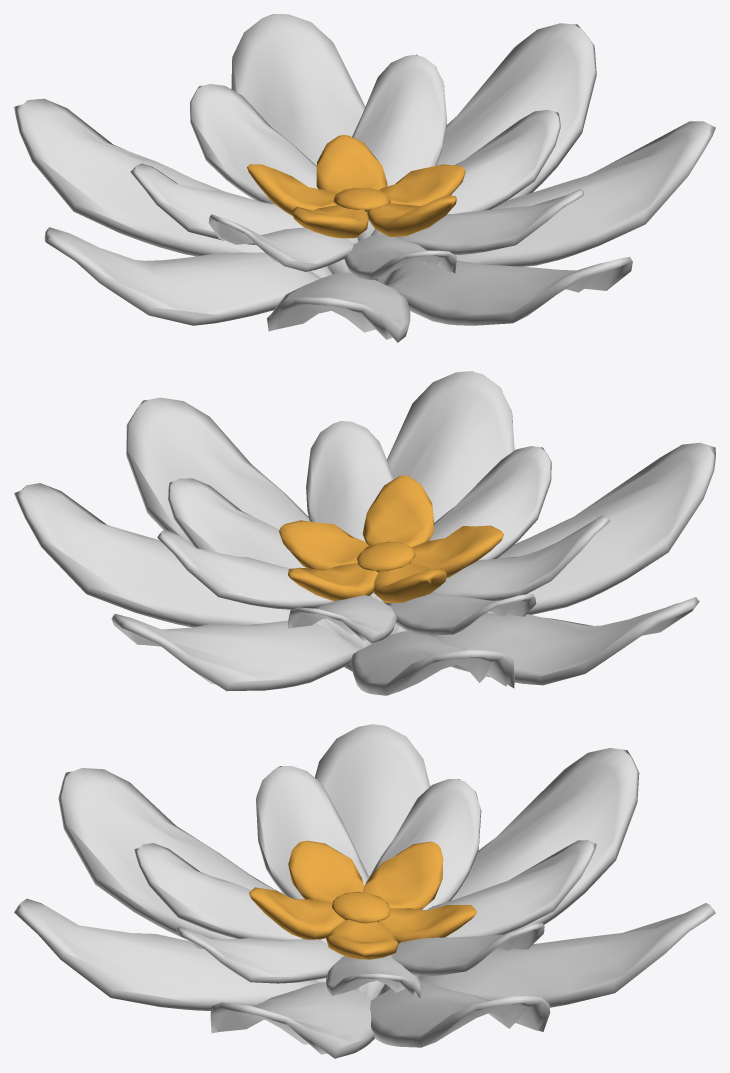
File: Flower2.fbx
3 renders of one model, top to bottom at view 1: azimuth 30°, elevation 25°; view 2: azimuth 150°, elevation 25°; view 3: azimuth 270°, elevation 25°, orthographic.
Visible parts, largest first — view 1: Plane.025, Plane.028, Plane.026, Plane.024, Flower.003, Plane.027, Plane.023, Plane.020, Plane.019, Plane.021, Plane.022, Plane.018 (+3 smaller); view 2: Flower.003, Plane.027, Plane.022, Plane.028, Plane.023, Plane.026, Plane.024, Plane.016, Plane.015, Plane.025, Plane.021, Plane.020 (+3 smaller); view 3: Flower.003, Plane.025, Plane.022, Plane.023, Plane.026, Plane.024, Plane.017, Plane.028, Plane.027, Plane.015, Plane.019, Plane.018 (+3 smaller).
Part boxes in pixels (x1=…): Plane.025: x1=14, y1=98, x2=332, y2=277; Plane.028: x1=382, y1=121, x2=715, y2=285; Plane.026: x1=231, y1=14, x2=365, y2=274; Plane.024: x1=44, y1=227, x2=321, y2=325; Flower.003: x1=247, y1=134, x2=465, y2=238; Plane.027: x1=374, y1=23, x2=596, y2=282; Plane.023: x1=387, y1=257, x2=632, y2=325; Plane.020: x1=352, y1=54, x2=447, y2=241; Plane.019: x1=190, y1=84, x2=358, y2=243; Plane.021: x1=371, y1=109, x2=560, y2=235; Plane.022: x1=266, y1=272, x2=410, y2=342; Plane.018: x1=130, y1=163, x2=304, y2=245; Flower.003: x1=279, y1=475, x2=503, y2=602; Plane.027: x1=14, y1=483, x2=352, y2=671; Plane.022: x1=429, y1=442, x2=715, y2=635; Plane.028: x1=126, y1=397, x2=372, y2=648; Plane.023: x1=387, y1=371, x2=514, y2=634; Plane.026: x1=111, y1=614, x2=361, y2=690; Plane.024: x1=430, y1=597, x2=699, y2=685; Plane.016: x1=306, y1=421, x2=394, y2=602; Plane.015: x1=383, y1=446, x2=551, y2=605; Plane.025: x1=350, y1=631, x2=514, y2=695; Plane.021: x1=168, y1=478, x2=371, y2=596; Plane.020: x1=157, y1=529, x2=333, y2=609; Flower.003: x1=249, y1=840, x2=476, y2=959; Plane.025: x1=377, y1=748, x2=639, y2=996; Plane.022: x1=58, y1=768, x2=326, y2=982; Plane.023: x1=14, y1=898, x2=318, y2=1010; Plane.026: x1=418, y1=903, x2=715, y2=1007; Plane.024: x1=315, y1=724, x2=430, y2=999; Plane.017: x1=256, y1=766, x2=369, y2=899; Plane.028: x1=210, y1=982, x2=374, y2=1058; Plane.027: x1=370, y1=981, x2=550, y2=1047; Plane.015: x1=134, y1=843, x2=327, y2=943; Plane.019: x1=426, y1=840, x2=596, y2=937; Plane.018: x1=369, y1=779, x2=481, y2=910.
Size of the model in its own units: 500 by 135 by 493.
